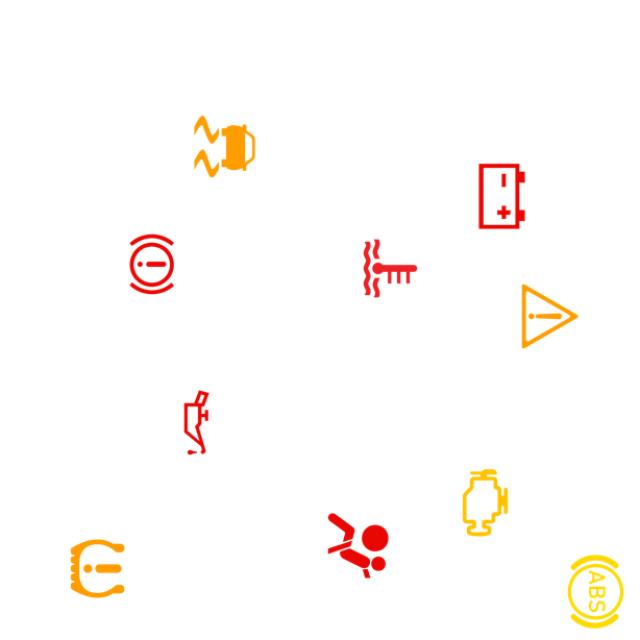Anti Lock Braking System: (555, 551, 636, 632)
Braking System Issue: (111, 224, 192, 304)
Charging System Issue: (462, 156, 542, 237)
Check Engine: (445, 463, 525, 543)
Electronic Stability Problem -ESP-: (184, 106, 265, 187)
Engine Overheating Warning Light: (350, 228, 431, 309)
Low Engine Oil Warning Light: (156, 382, 237, 463)
Low Tire Pressure Warning Light: (57, 528, 138, 609)
Master warning light: (510, 276, 590, 357)
SRS-Airbag: (318, 505, 398, 586)
